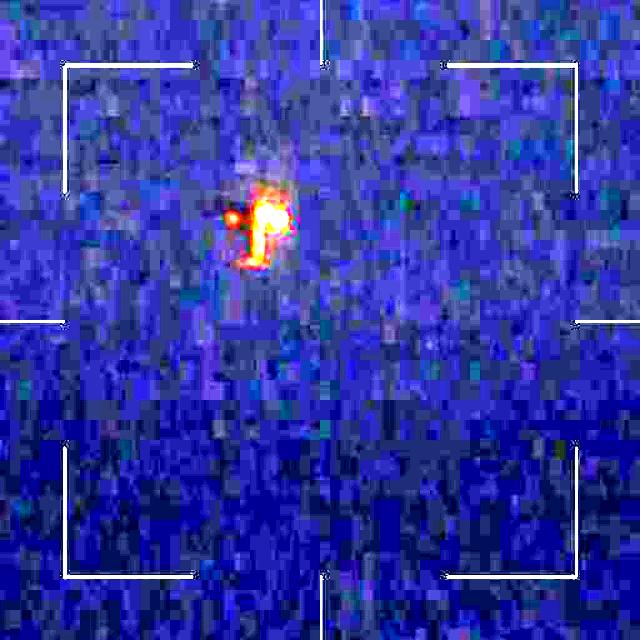bird: (211, 192, 289, 269)
